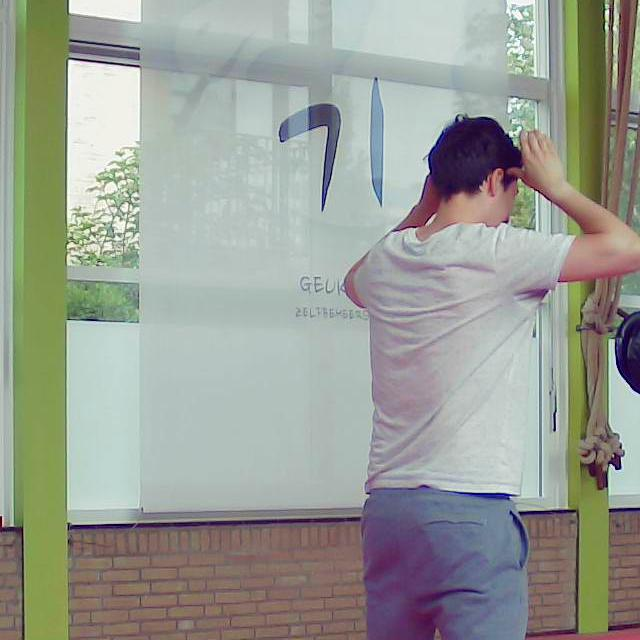paddle: (613, 310, 640, 410)
